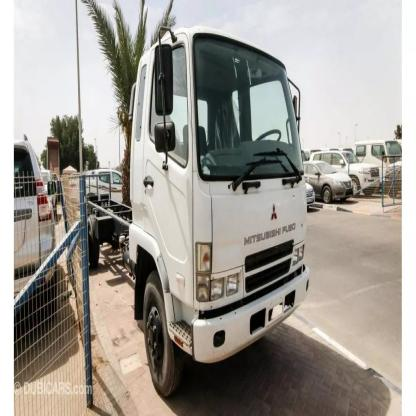truck: (81, 31, 310, 397)
